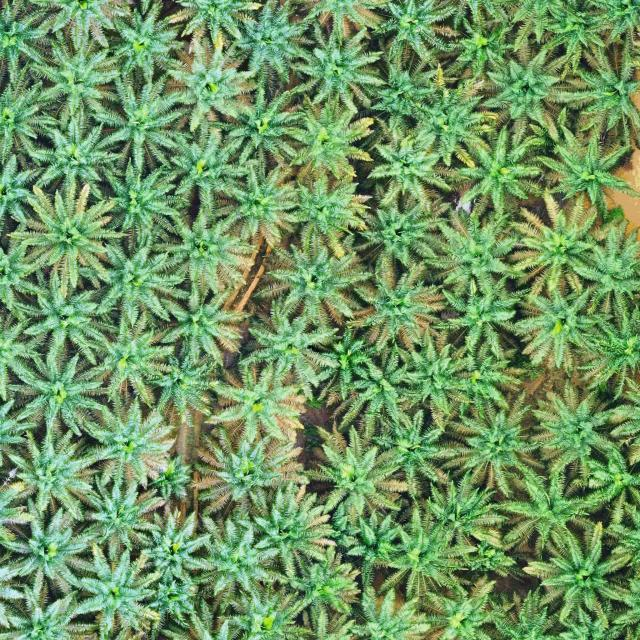Tree: (4, 176, 130, 300), (188, 421, 312, 525), (253, 227, 375, 332), (10, 259, 124, 369), (90, 58, 196, 176), (518, 520, 633, 626), (505, 182, 607, 299), (0, 344, 119, 444), (344, 244, 449, 356), (436, 385, 536, 501), (310, 418, 413, 530), (24, 26, 131, 133), (530, 114, 638, 220), (0, 492, 100, 606), (205, 355, 315, 455), (236, 298, 340, 403), (144, 204, 260, 298), (77, 309, 182, 412), (163, 26, 266, 131), (82, 157, 188, 259), (19, 105, 129, 203), (332, 329, 430, 439), (377, 504, 482, 606), (509, 276, 615, 376), (0, 424, 104, 524), (354, 177, 453, 282), (532, 375, 626, 485), (80, 389, 178, 493), (276, 90, 380, 188), (66, 538, 165, 640), (287, 20, 386, 119), (95, 232, 194, 331), (494, 460, 594, 558), (364, 113, 461, 214), (363, 403, 464, 500), (187, 509, 291, 603), (251, 474, 343, 580), (424, 202, 528, 295), (278, 161, 374, 259), (162, 122, 262, 216), (474, 41, 566, 143), (415, 61, 502, 168), (154, 282, 252, 369), (556, 45, 640, 146), (434, 270, 520, 366), (382, 329, 473, 417), (213, 159, 299, 249), (452, 127, 542, 212), (107, 0, 193, 87), (80, 471, 168, 555), (134, 502, 218, 588), (360, 47, 446, 130), (226, 80, 303, 168), (229, 0, 314, 79), (284, 542, 366, 622), (374, 1, 466, 70), (444, 343, 530, 415), (422, 474, 505, 548), (141, 350, 222, 420), (577, 443, 640, 527), (334, 506, 408, 568)
